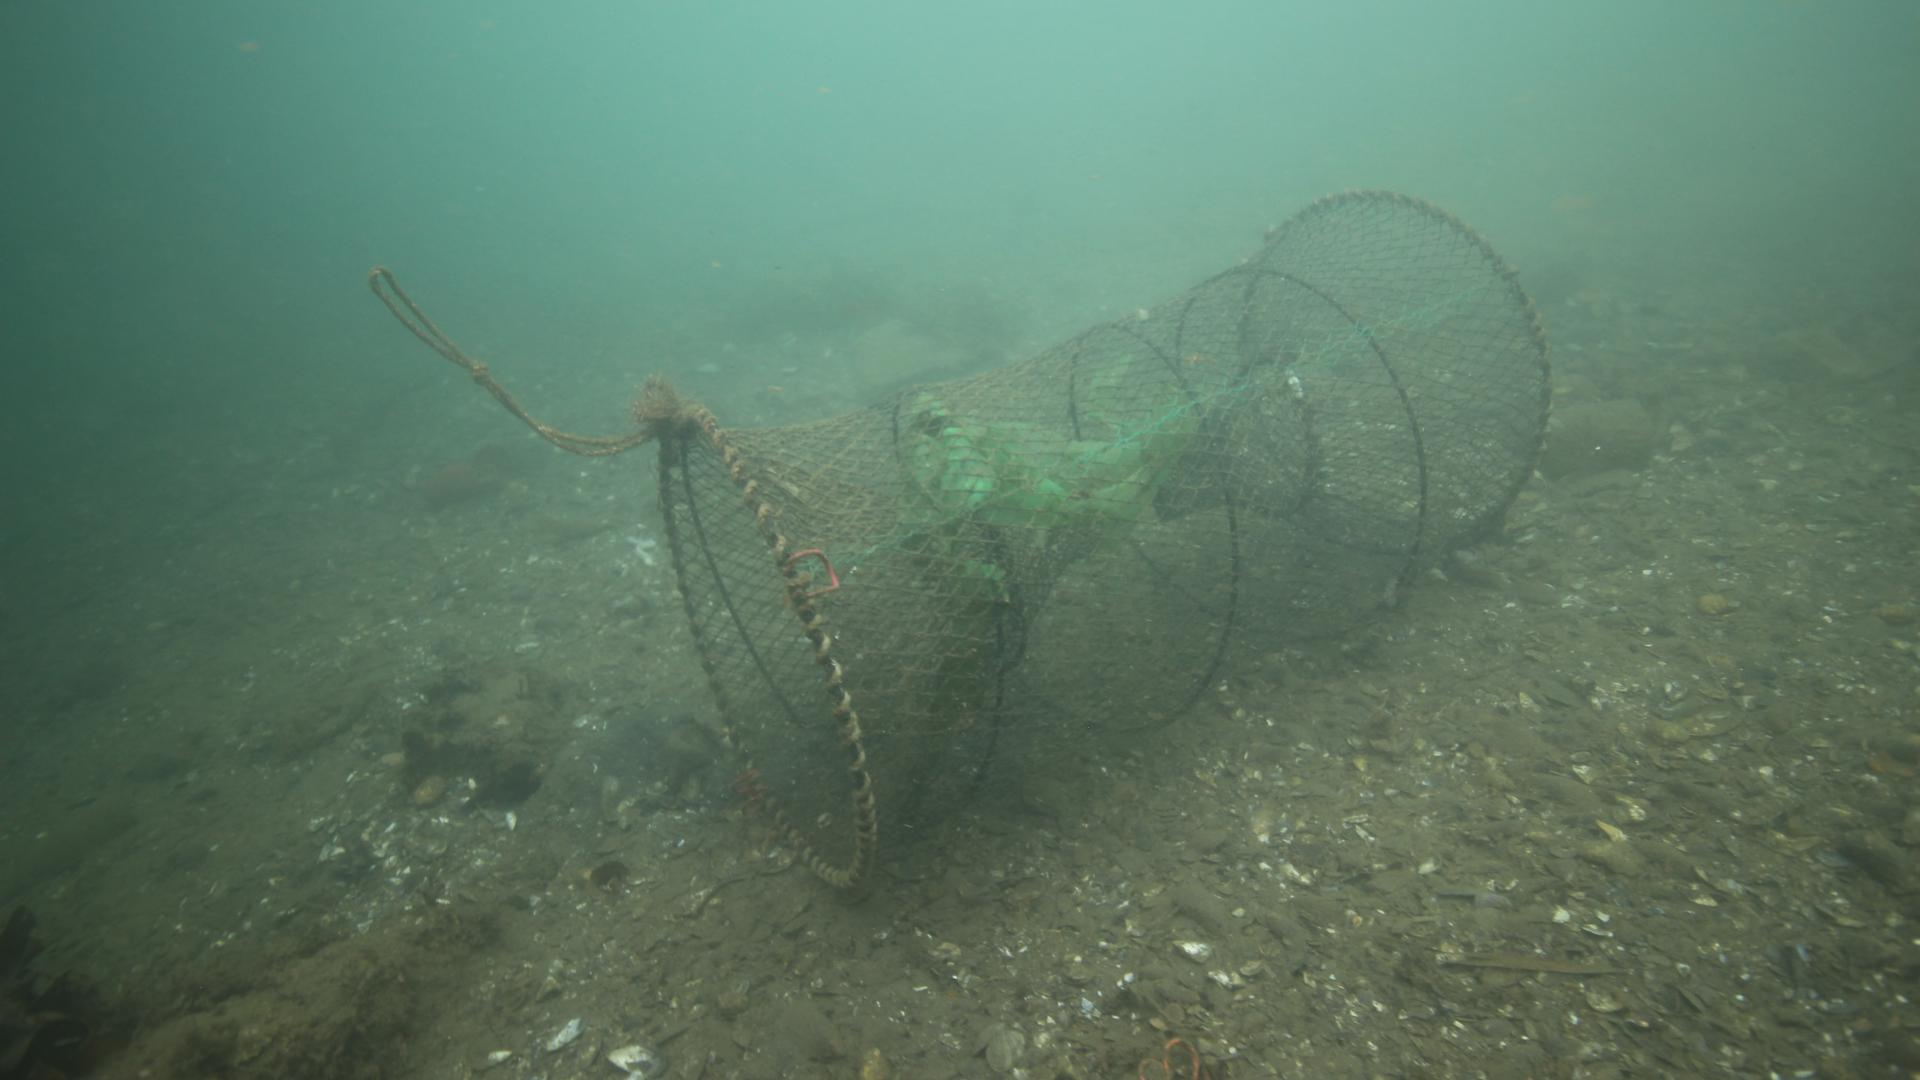bundle of ropes: (371, 262, 665, 458)
spring fish trap: (657, 183, 1553, 891)
